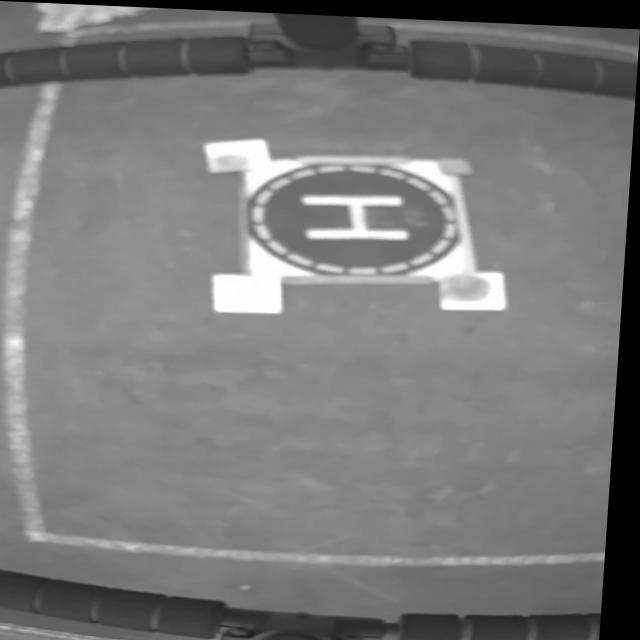Helipad: (308, 190, 415, 236)
